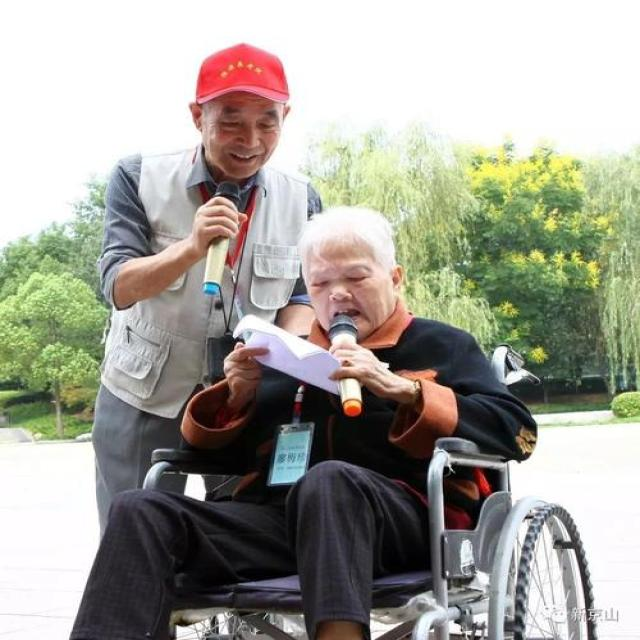wheelchairs: (120, 323, 611, 640)
